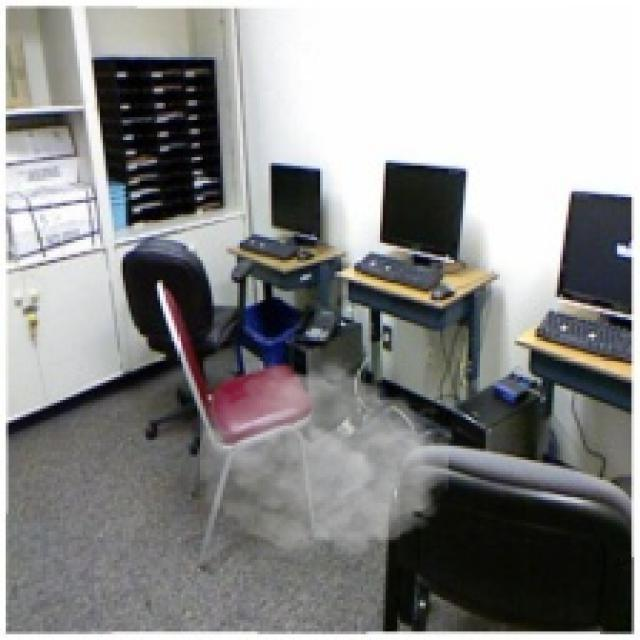Smoke: (201, 354, 448, 566)
